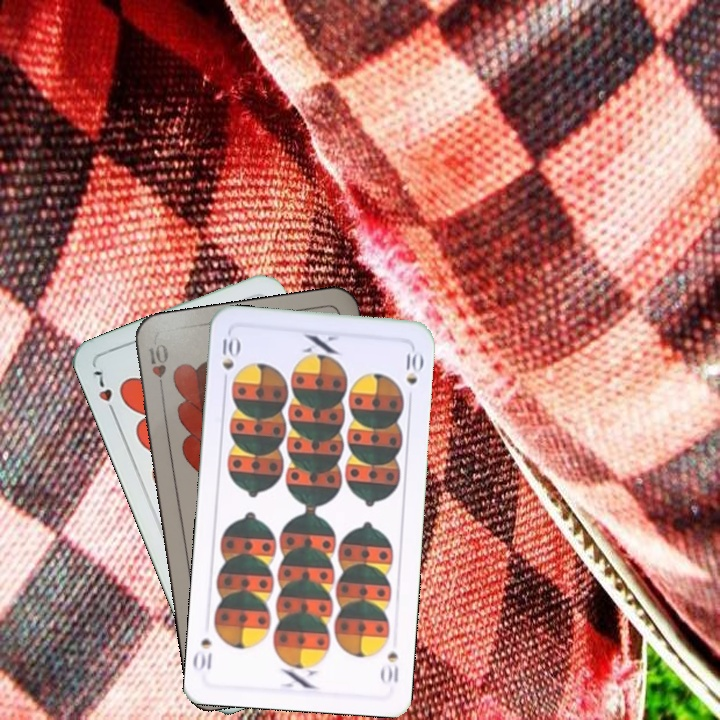H10: (144, 340, 171, 398)
H7: (89, 366, 119, 420)
S10: (218, 330, 242, 389), (377, 647, 401, 686)
